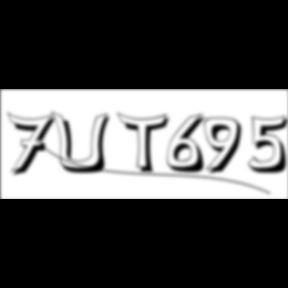6: (168, 112, 212, 176)
7: (7, 111, 62, 179)
9: (204, 117, 250, 177)
T: (117, 112, 175, 176)
U: (52, 110, 116, 176)
